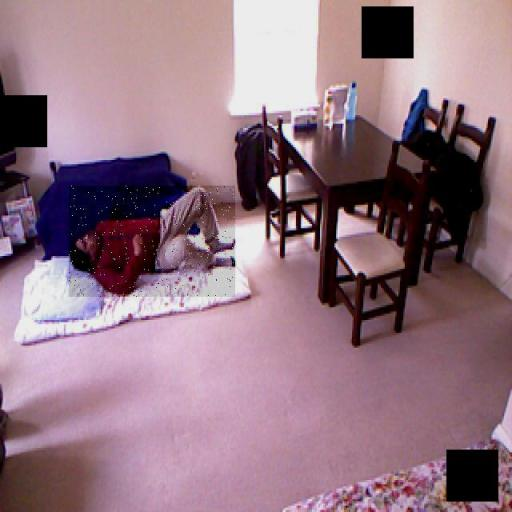Fall: (69, 186, 235, 297)
